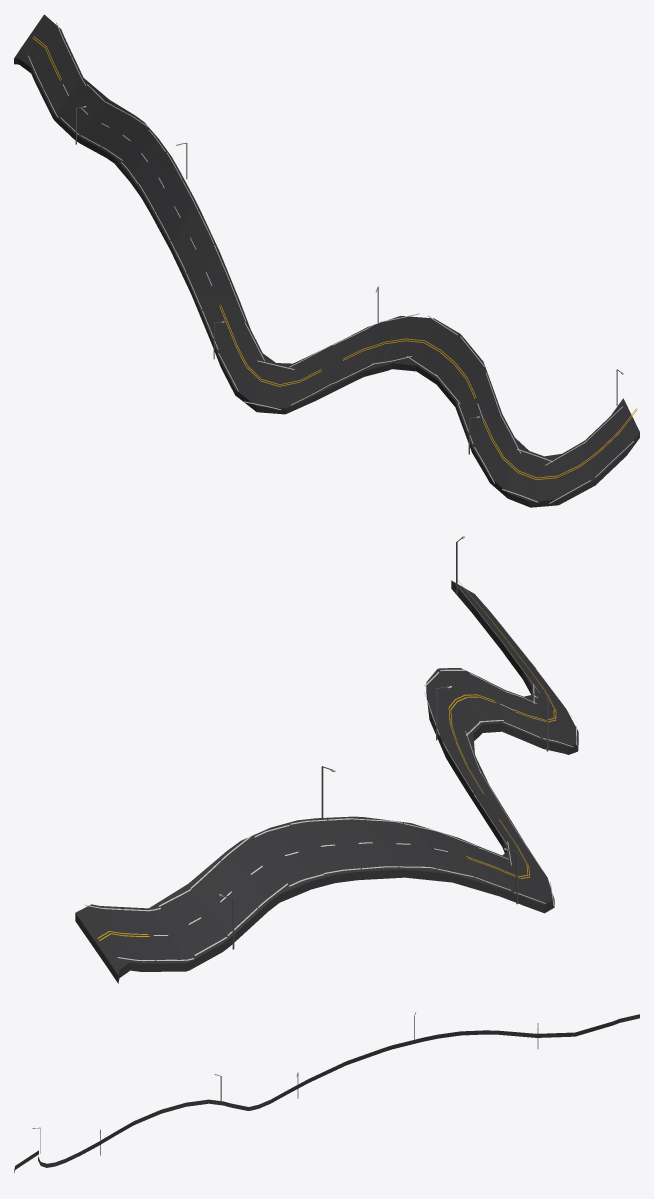
3 views of the same model, one above another, from view 1: azimuth 30°, elevation 25°; view 2: azimuth 150°, elevation 25°; view 3: azimuth 270°, elevation 25° (orthographic). The views are drawn at different scales.
Size of the model in its own units: 50.45 by 41.84 by 164.
